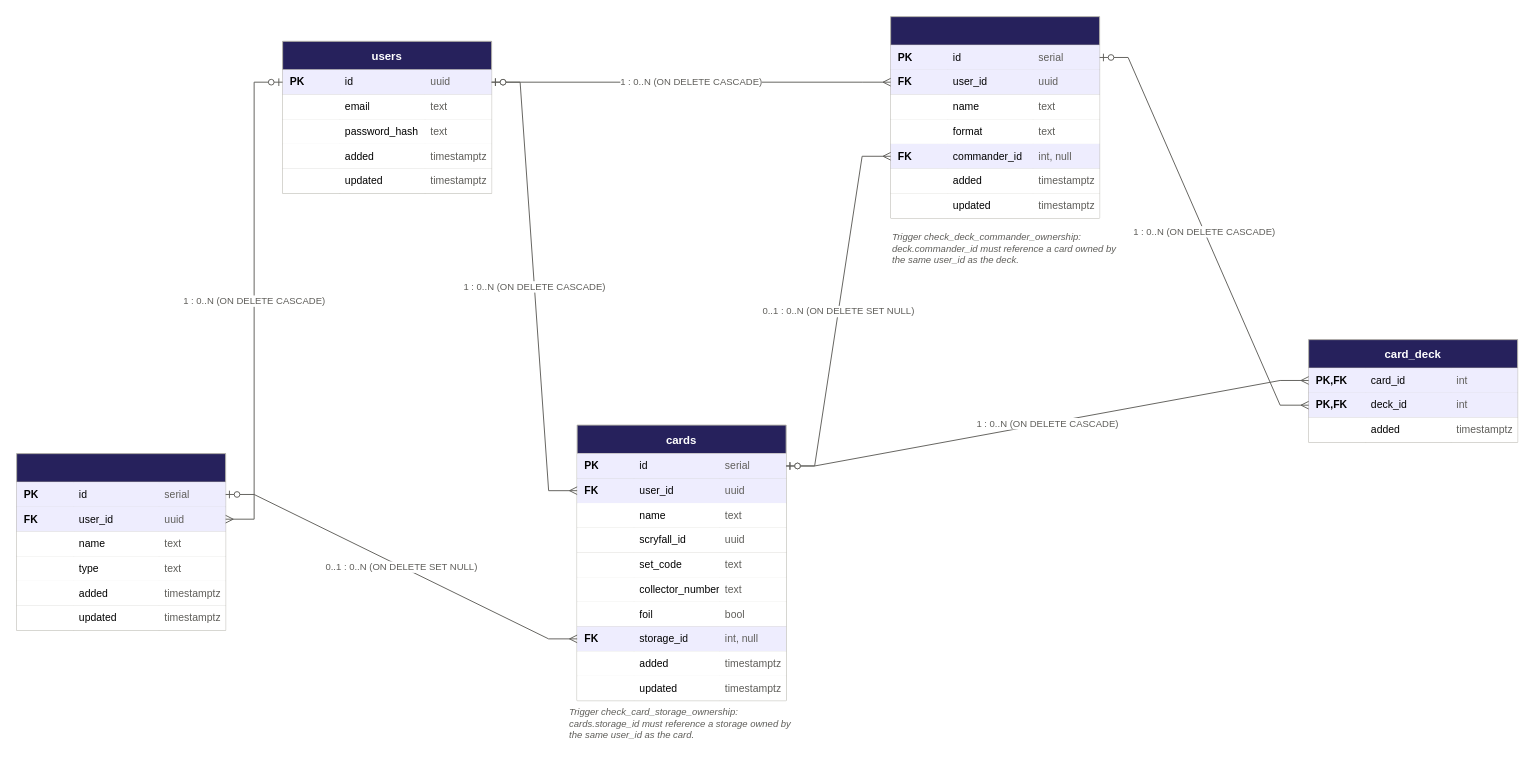
Image size: 1534x774. Some labels were removed from this diagram. The box of each missing label's shape, as (x1, y1, x2, y2) in pixels:
deck: (890, 16, 1100, 218)
storage: (16, 453, 226, 630)
